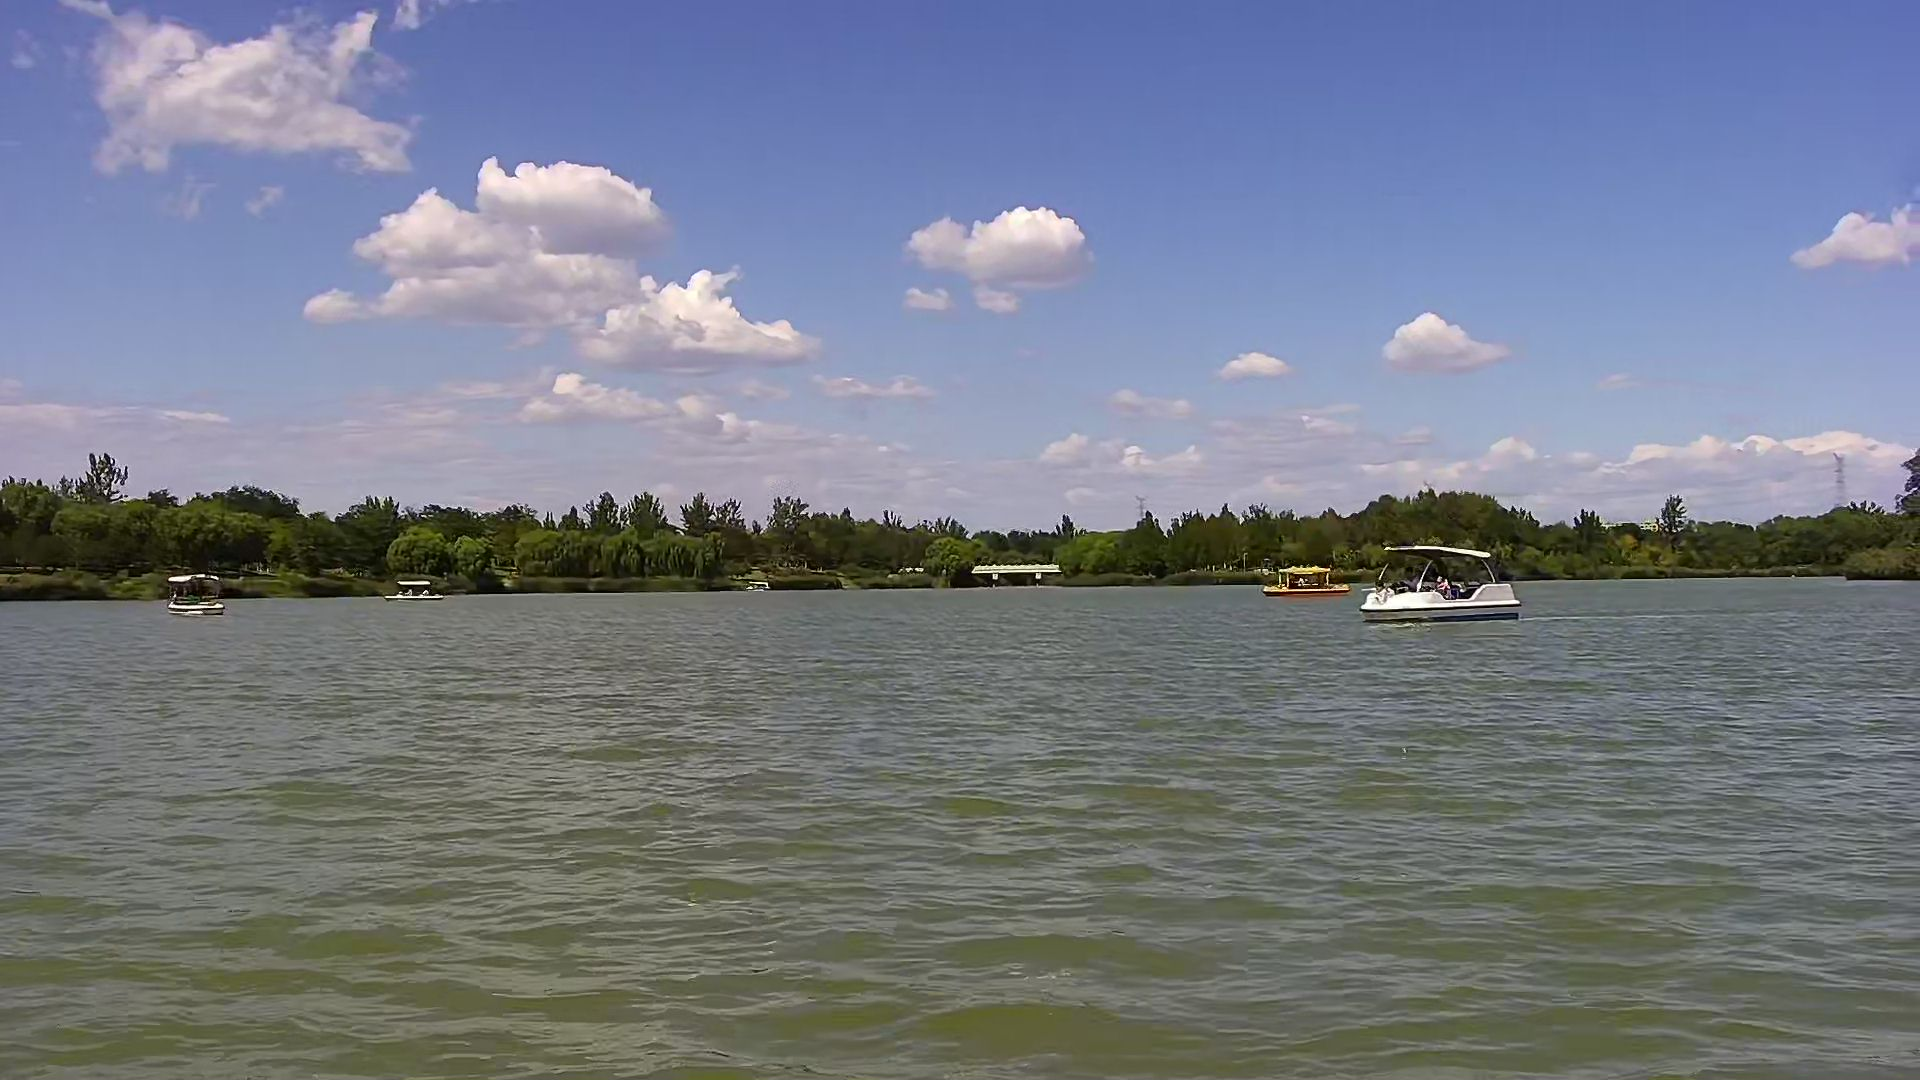boat: (1360, 541, 1518, 634), (1263, 560, 1346, 600), (160, 572, 222, 620), (386, 574, 444, 607)
bridge: (975, 560, 1064, 589)
